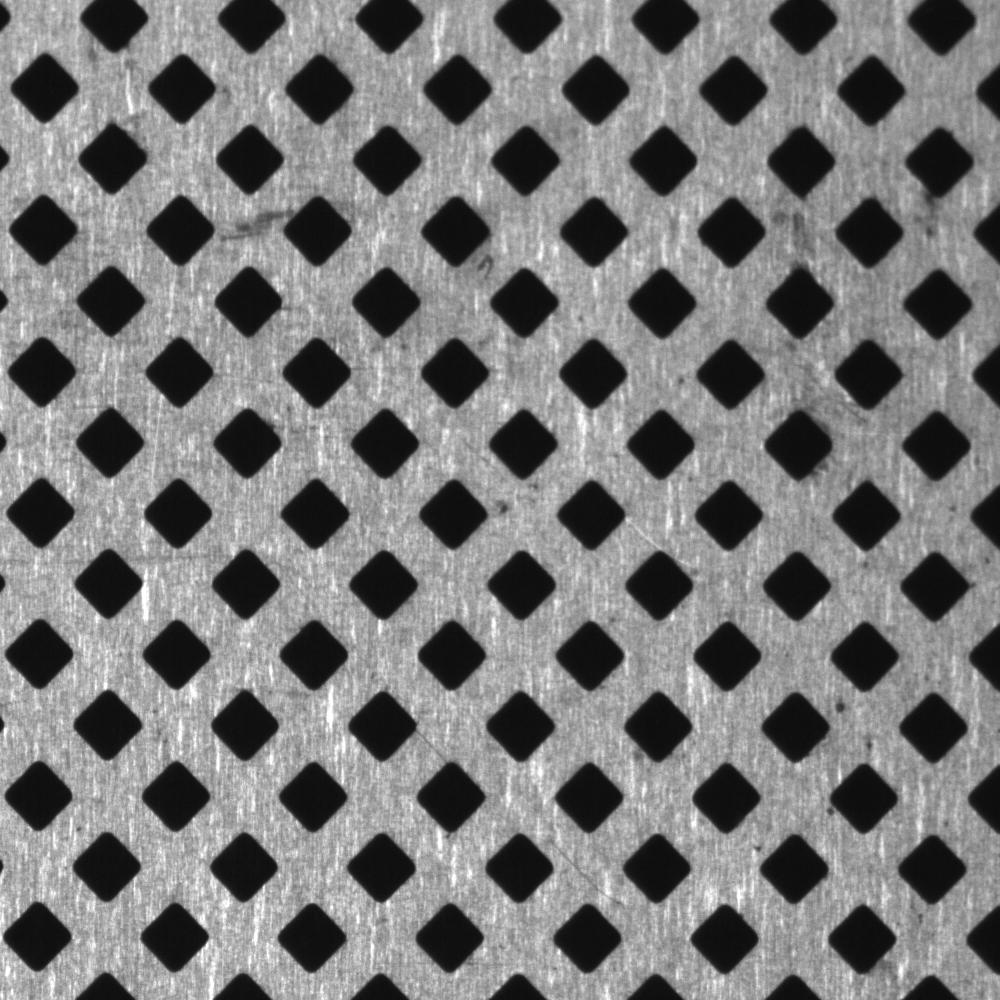Discolor: (764, 336, 837, 411), (762, 193, 824, 268), (215, 192, 293, 249), (893, 181, 946, 239), (468, 246, 510, 289)
Etching: (490, 478, 557, 528)
Pinhole: (824, 683, 858, 723), (661, 366, 696, 392)
Scar: (542, 835, 624, 906), (412, 721, 447, 768)
